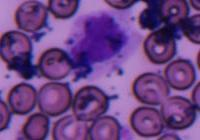M: (66, 8, 142, 76)
